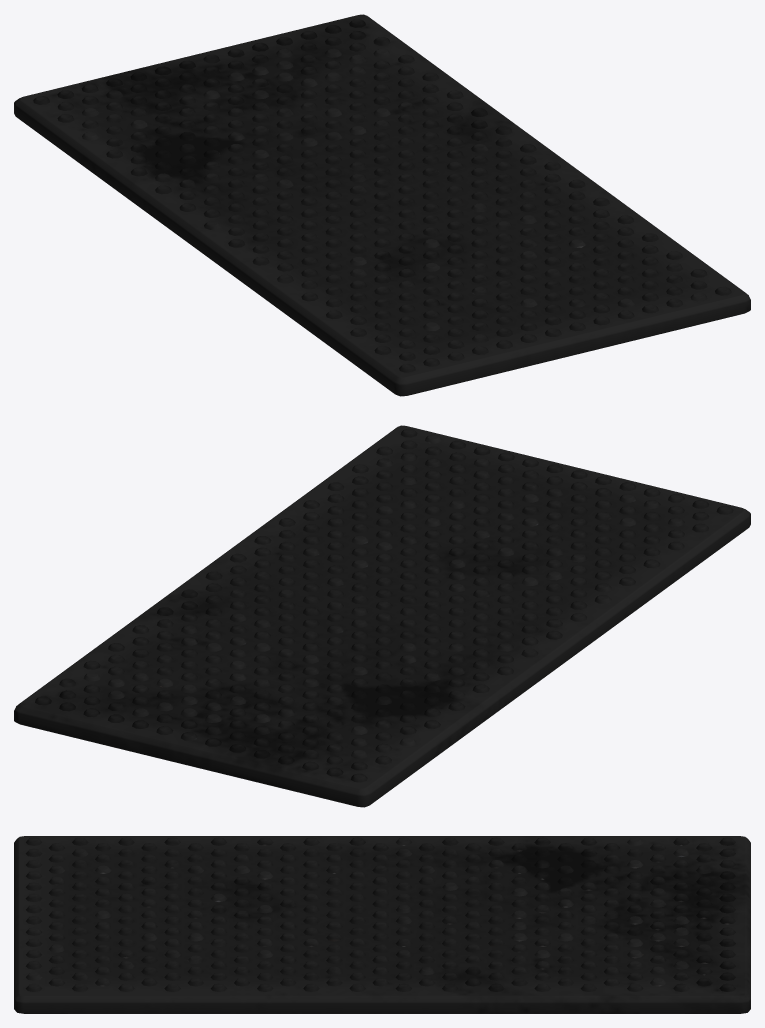
File: SM_RoomStyle_Floor08Plate.fbx
3 views of the same model, one above another, from view 1: azimuth 30°, elevation 25°; view 2: azimuth 150°, elevation 25°; view 3: azimuth 270°, elevation 25° (orthographic). The views are drawn at different scales.
Parts seen in each view (by area): view 1: SM_RoomStyle_Floor08Plate_LOD0; view 2: SM_RoomStyle_Floor08Plate_LOD0; view 3: SM_RoomStyle_Floor08Plate_LOD0.
Part boxes in pixels (box(x1,y1,x2,y2)): SM_RoomStyle_Floor08Plate_LOD0: box(14, 14, 750, 396); SM_RoomStyle_Floor08Plate_LOD0: box(14, 425, 750, 807); SM_RoomStyle_Floor08Plate_LOD0: box(14, 836, 750, 1013).
Size of the model in its own units: 61.51 by 116 by 3.38.
1 material, 1 textured.
